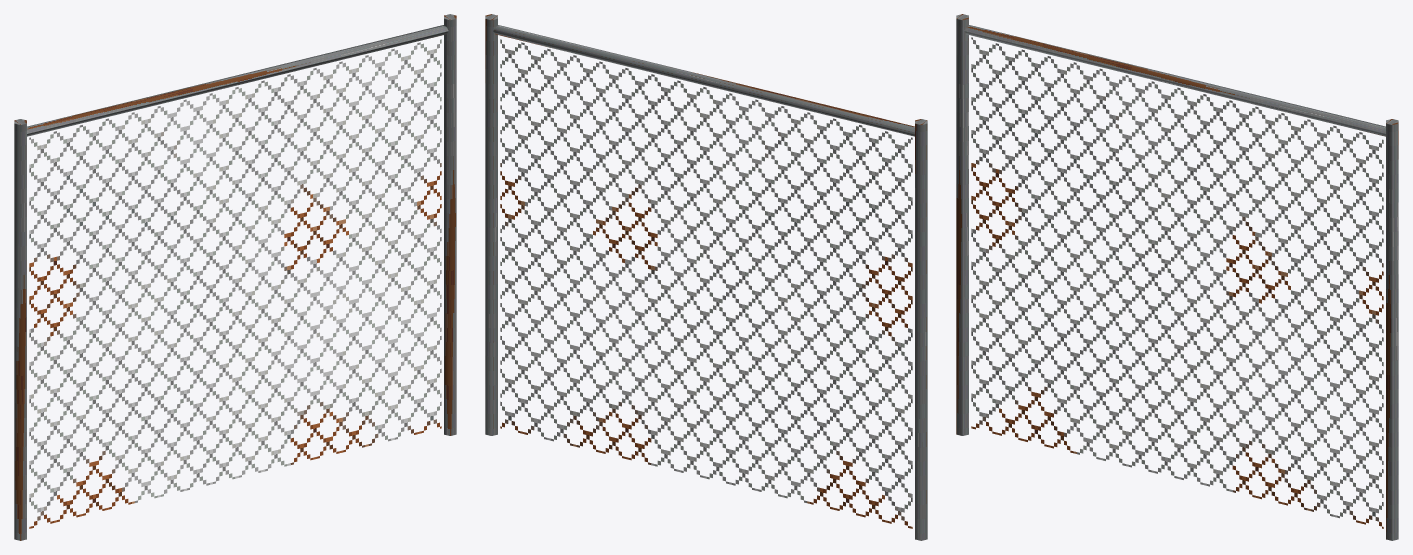
Rendered from fence_chainlink.glb.
The picture shows the model from 3 angles, left to right: view 1: azimuth 30°, elevation 25°; view 2: azimuth 150°, elevation 25°; view 3: azimuth 330°, elevation 25°; orthographic projection.
Visible parts, largest first — view 1: fence_chainlink; view 2: fence_chainlink; view 3: fence_chainlink.
Part boxes in pixels (left/top/right/bottom): fence_chainlink: left=14, top=14, right=456, bottom=540; fence_chainlink: left=485, top=14, right=927, bottom=540; fence_chainlink: left=956, top=14, right=1398, bottom=540.
Bounding box in the file's own units: 2.06 × 1.85 × 0.052.
1 material, 1 textured.
